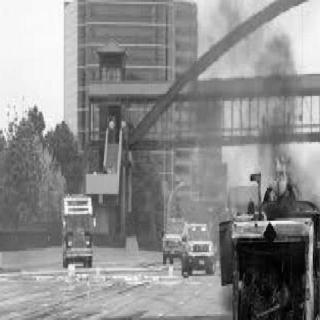Fire: (263, 140, 303, 208)
